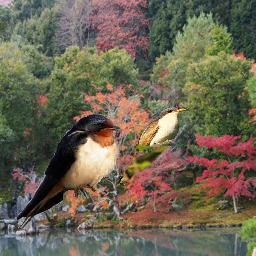Cuckoo: (114, 105, 190, 187)
Swallow: (16, 114, 121, 229)
